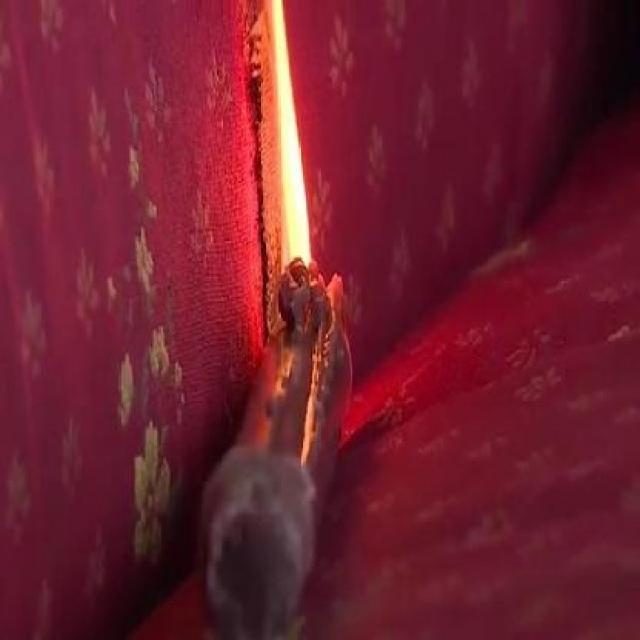fire: (270, 7, 319, 248)
